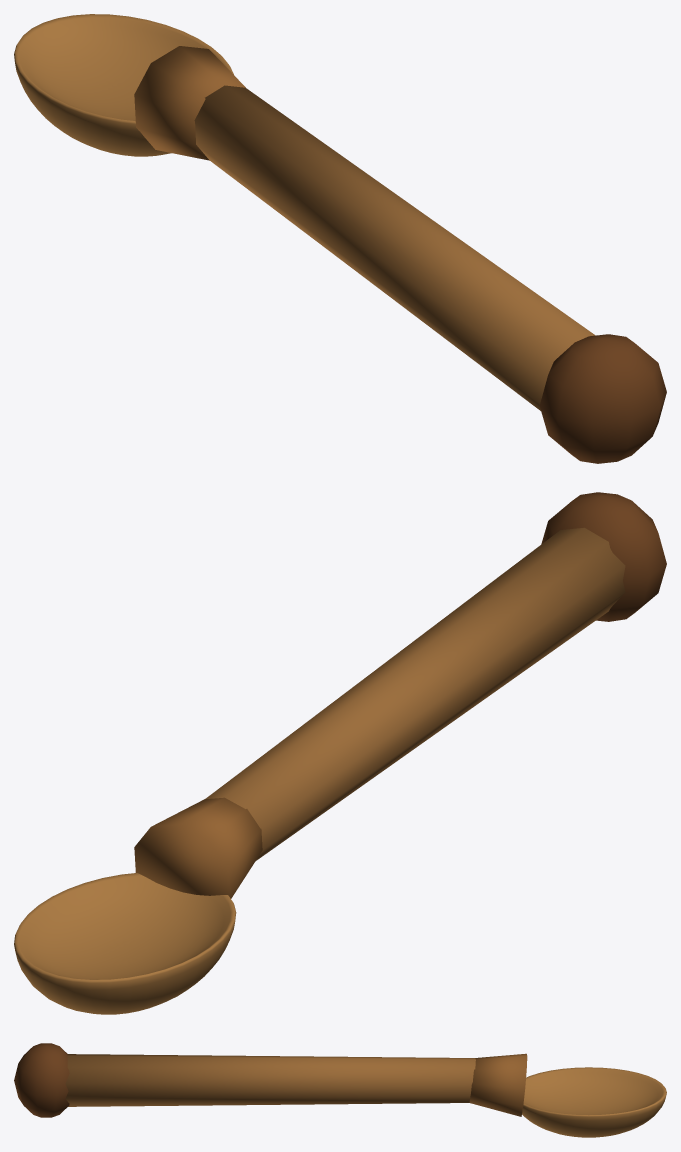
The model's file is stick.glb.
The picture shows the model from 3 angles, top to bottom: view 1: azimuth 30°, elevation 25°; view 2: azimuth 150°, elevation 25°; view 3: azimuth 270°, elevation 25°; orthographic projection. The views are drawn at different scales.
Parts seen in each view (by area): view 1: stick; view 2: stick; view 3: stick.
Part boxes in pixels (x1=…): stick: x1=14, y1=14, x2=666, y2=463; stick: x1=14, y1=492, x2=666, y2=1014; stick: x1=14, y1=1043, x2=666, y2=1137.
Size of the model in its own units: 0.2121 by 0.1742 by 1.21.
